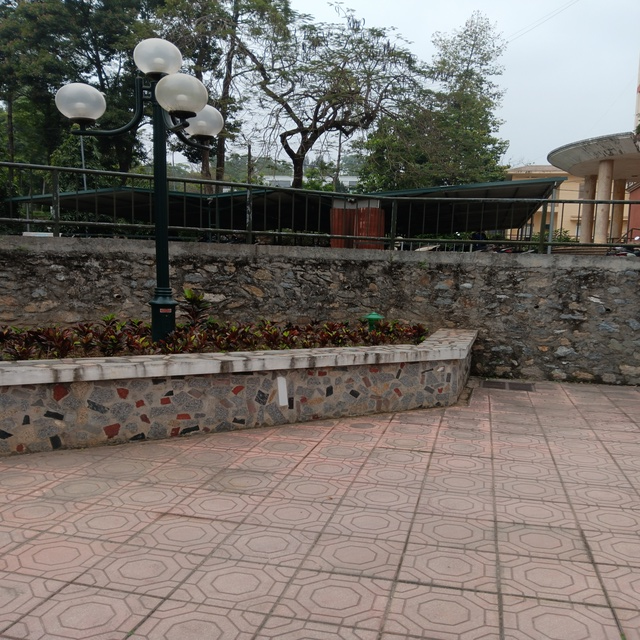cotden: (48, 32, 258, 345)
